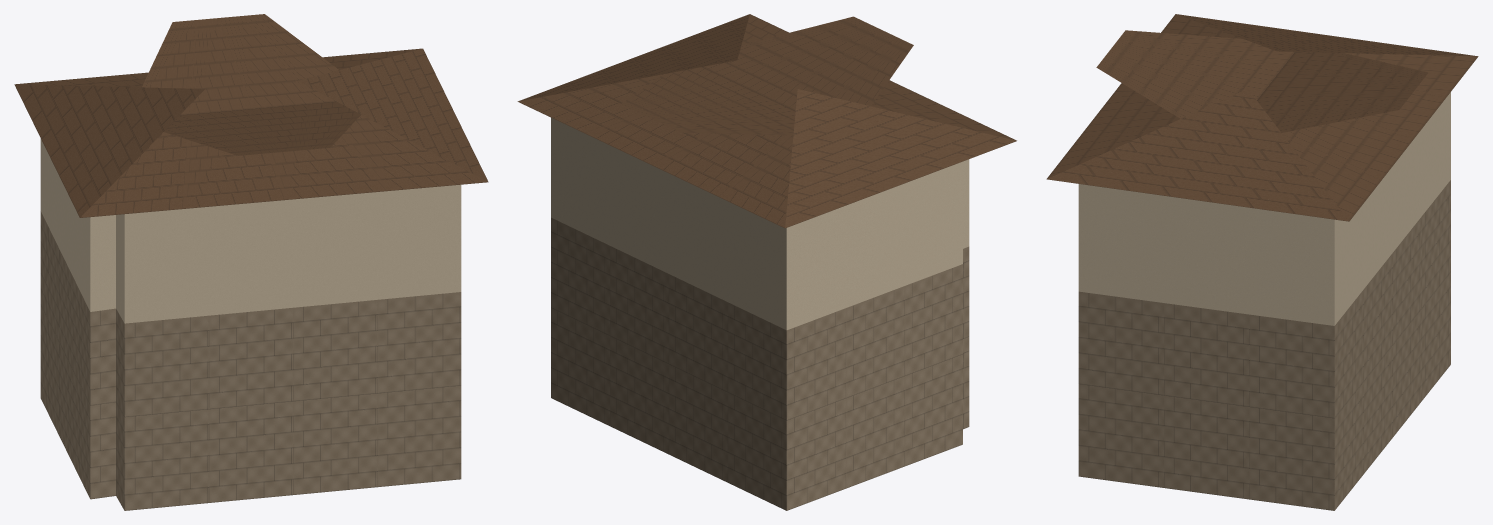
File: bld_c9_8_502.gltf
The picture shows the model from 3 angles, left to right: view 1: azimuth 30°, elevation 25°; view 2: azimuth 150°, elevation 25°; view 3: azimuth 270°, elevation 25°; orthographic projection. The views are drawn at different scales.
Visible parts, largest first — view 1: bld_c9_8_502; view 2: bld_c9_8_502; view 3: bld_c9_8_502.
Boxes of the visible parts, x1,y1,x2,y2 form: bld_c9_8_502: (14,14,488,510); bld_c9_8_502: (517,14,1016,510); bld_c9_8_502: (1046,14,1478,510).
Size of the model in its own units: 11.19 by 8.8 by 9.85.
3 materials, 3 textured.
